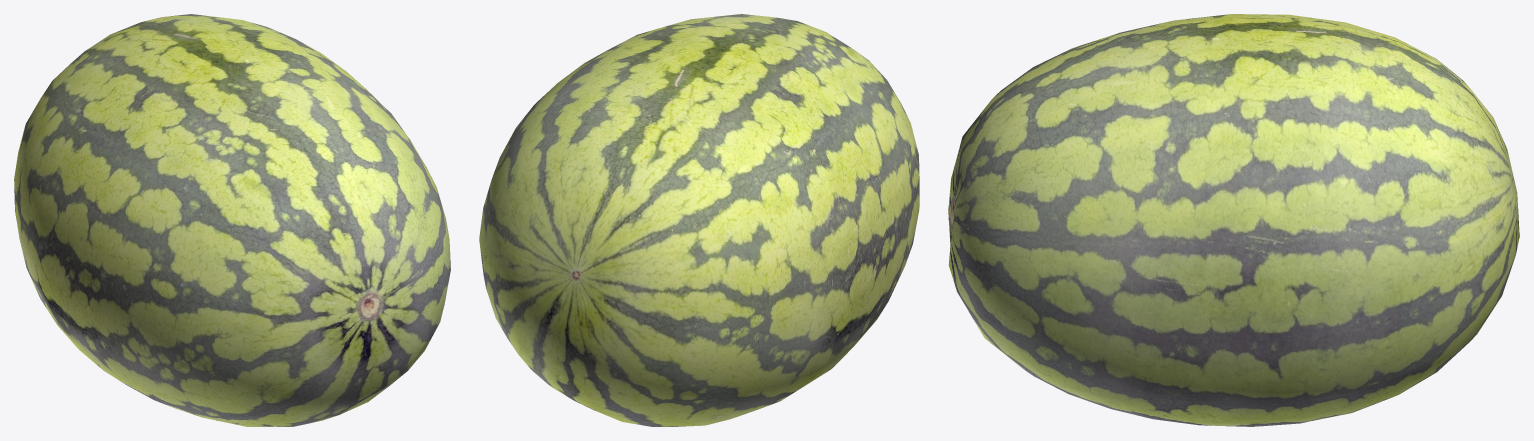
Rendered from honey_dew_melon.glb.
3 renders of one model, left to right at view 1: azimuth 30°, elevation 25°; view 2: azimuth 150°, elevation 25°; view 3: azimuth 270°, elevation 25°, orthographic. The views are drawn at different scales.
Parts seen in each view (by area): view 1: Watermelon; view 2: Watermelon; view 3: Watermelon.
Part boxes in pixels (left/top/right/bottom): Watermelon: left=14, top=14, right=450, bottom=426; Watermelon: left=479, top=14, right=919, bottom=426; Watermelon: left=948, top=14, right=1519, bottom=426.
Bounding box in the file's own units: 0.2084 × 0.2047 × 0.2822.
Materials: 1 (1 with a texture image).
